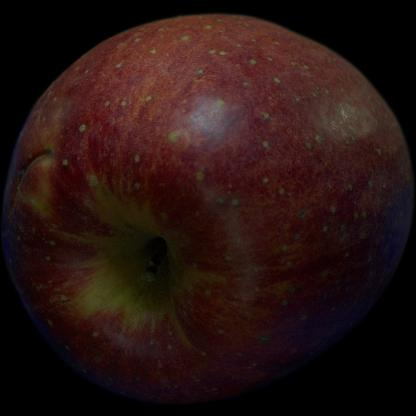defect: (10, 136, 68, 230)
